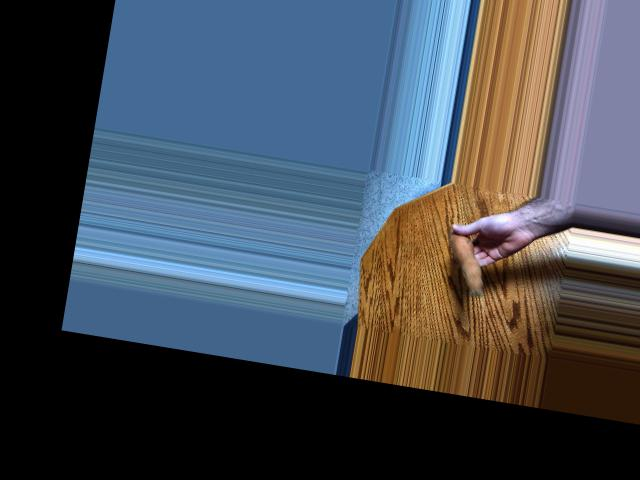sweet_potato: (438, 220, 499, 301)
